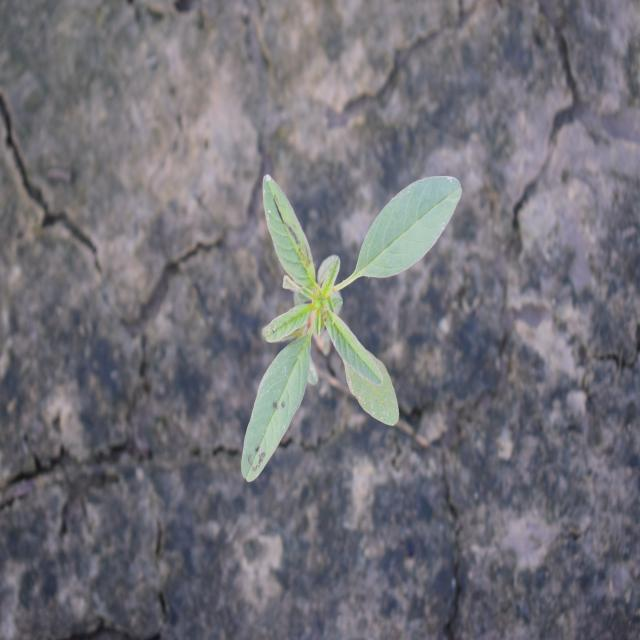Waterhemp: (237, 173, 464, 485)
